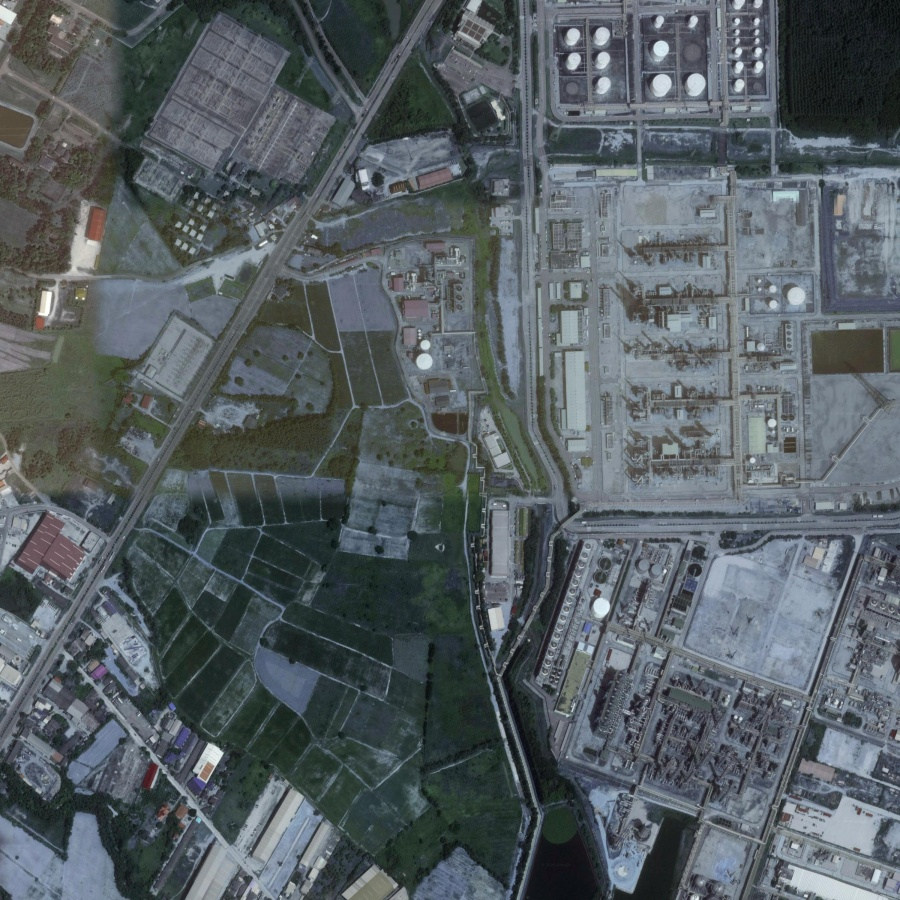PowerPlant: (613, 215, 807, 403)
